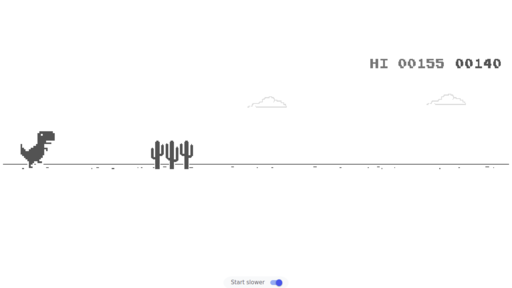dino: (19, 131, 55, 169)
tree: (151, 139, 194, 170)
